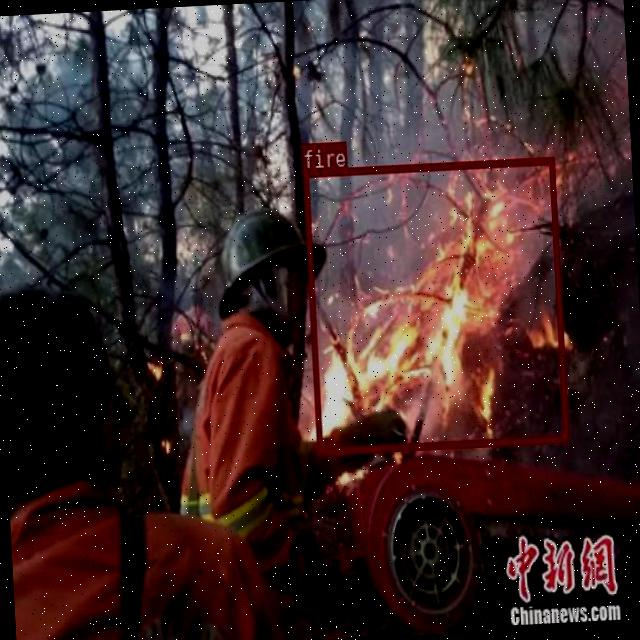fire: (302, 156, 568, 454)
